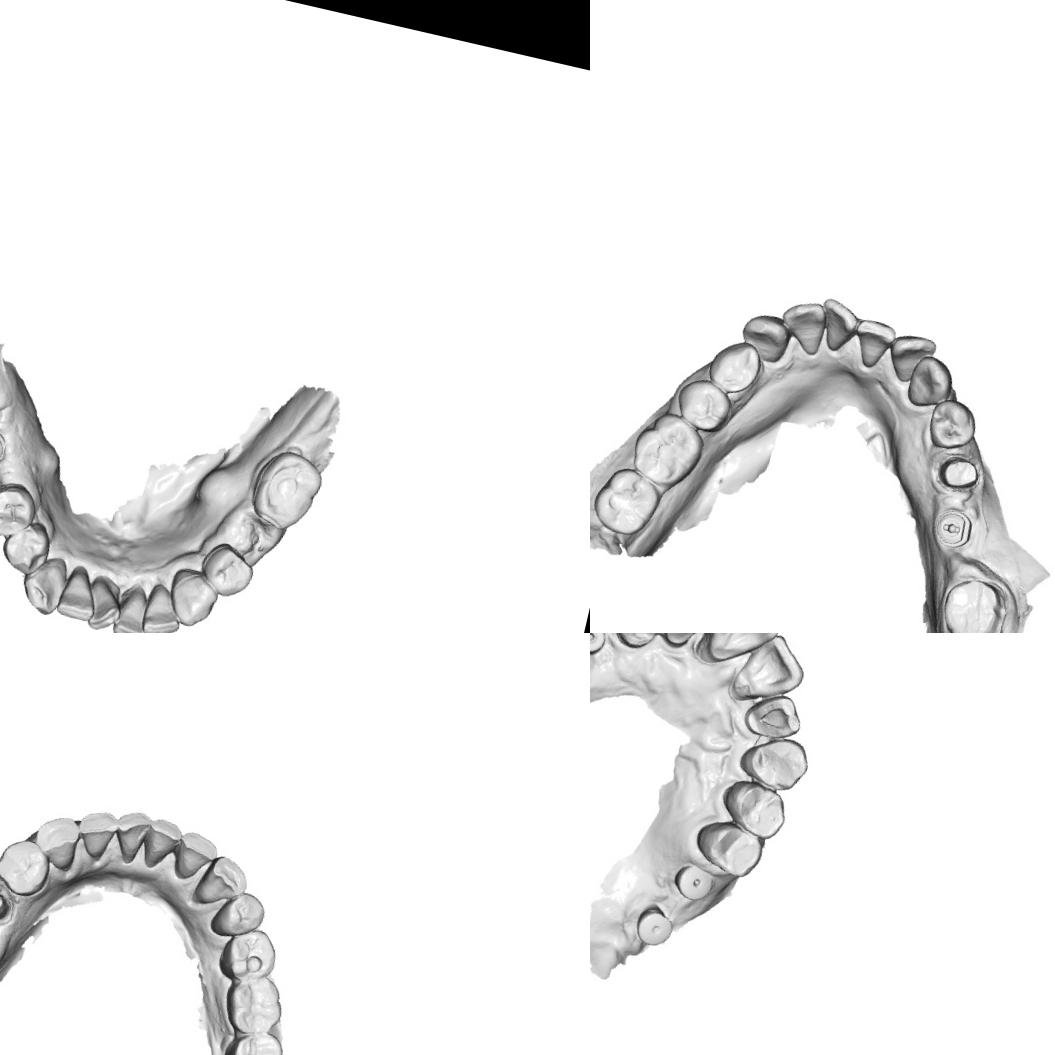canine: (735, 728, 814, 796), (162, 564, 224, 631), (190, 850, 253, 914), (16, 550, 72, 618), (735, 308, 794, 366), (30, 810, 84, 873), (924, 395, 980, 455), (603, 633, 671, 653)
crown: (932, 569, 1014, 633), (933, 450, 986, 498), (0, 879, 19, 928)
implant: (632, 904, 678, 950), (670, 862, 716, 904), (590, 633, 608, 658)
implant_minus: (928, 505, 978, 553), (0, 418, 12, 469)
incisor: (728, 633, 812, 712), (740, 687, 806, 744), (774, 296, 831, 358), (904, 351, 958, 414), (701, 633, 784, 673), (883, 329, 939, 388), (53, 562, 104, 625), (812, 296, 863, 356), (170, 828, 221, 886), (108, 805, 154, 868), (848, 316, 899, 372), (81, 574, 128, 633), (139, 815, 185, 875), (72, 805, 120, 862), (139, 580, 188, 633), (110, 580, 158, 633), (657, 633, 713, 652)
molar: (625, 405, 710, 500), (244, 444, 328, 538), (590, 461, 666, 541), (218, 968, 290, 1041), (217, 1022, 290, 1055)
premolar: (689, 814, 768, 882), (718, 775, 792, 843), (214, 921, 282, 989), (702, 334, 766, 399), (194, 538, 258, 602), (671, 374, 737, 436), (0, 833, 56, 901), (206, 884, 269, 944), (0, 513, 55, 578), (0, 476, 42, 544)
